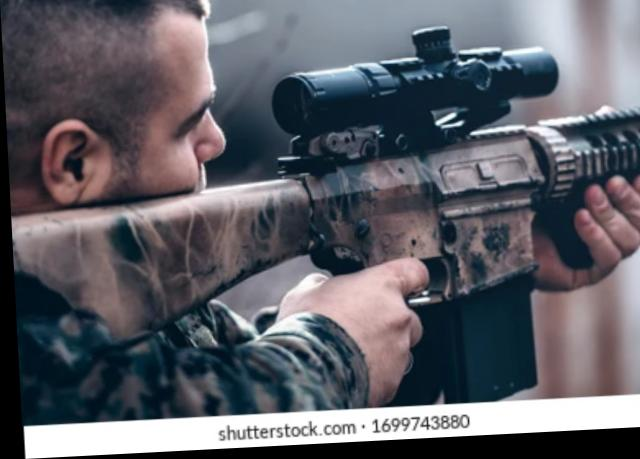other: (9, 0, 300, 418)
